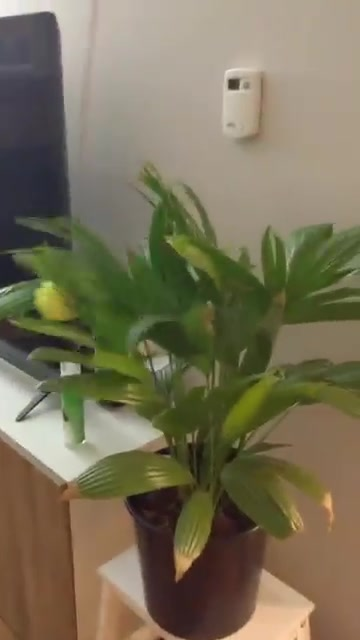tennis_ball: (30, 278, 85, 324)
